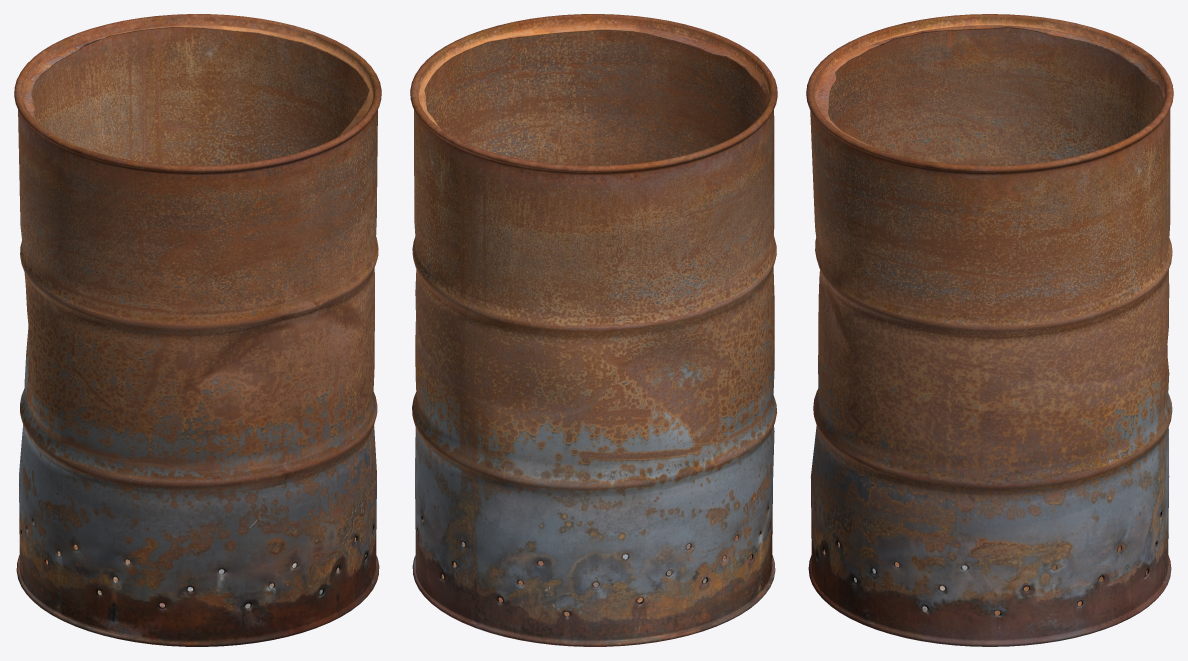
File: barrel_stove.glb
3 renders of one model, left to right at view 1: azimuth 30°, elevation 25°; view 2: azimuth 150°, elevation 25°; view 3: azimuth 270°, elevation 25°, orthographic.
Visible parts, largest first — view 1: barrel_stove; view 2: barrel_stove; view 3: barrel_stove.
Part boxes in pixels (bbox=[...]): barrel_stove: bbox=[14, 14, 381, 646]; barrel_stove: bbox=[410, 14, 777, 646]; barrel_stove: bbox=[806, 14, 1173, 646].
Bounding box in the file's own units: 0.5926 × 0.8556 × 0.5926.
Materials: 1 (1 with a texture image).
